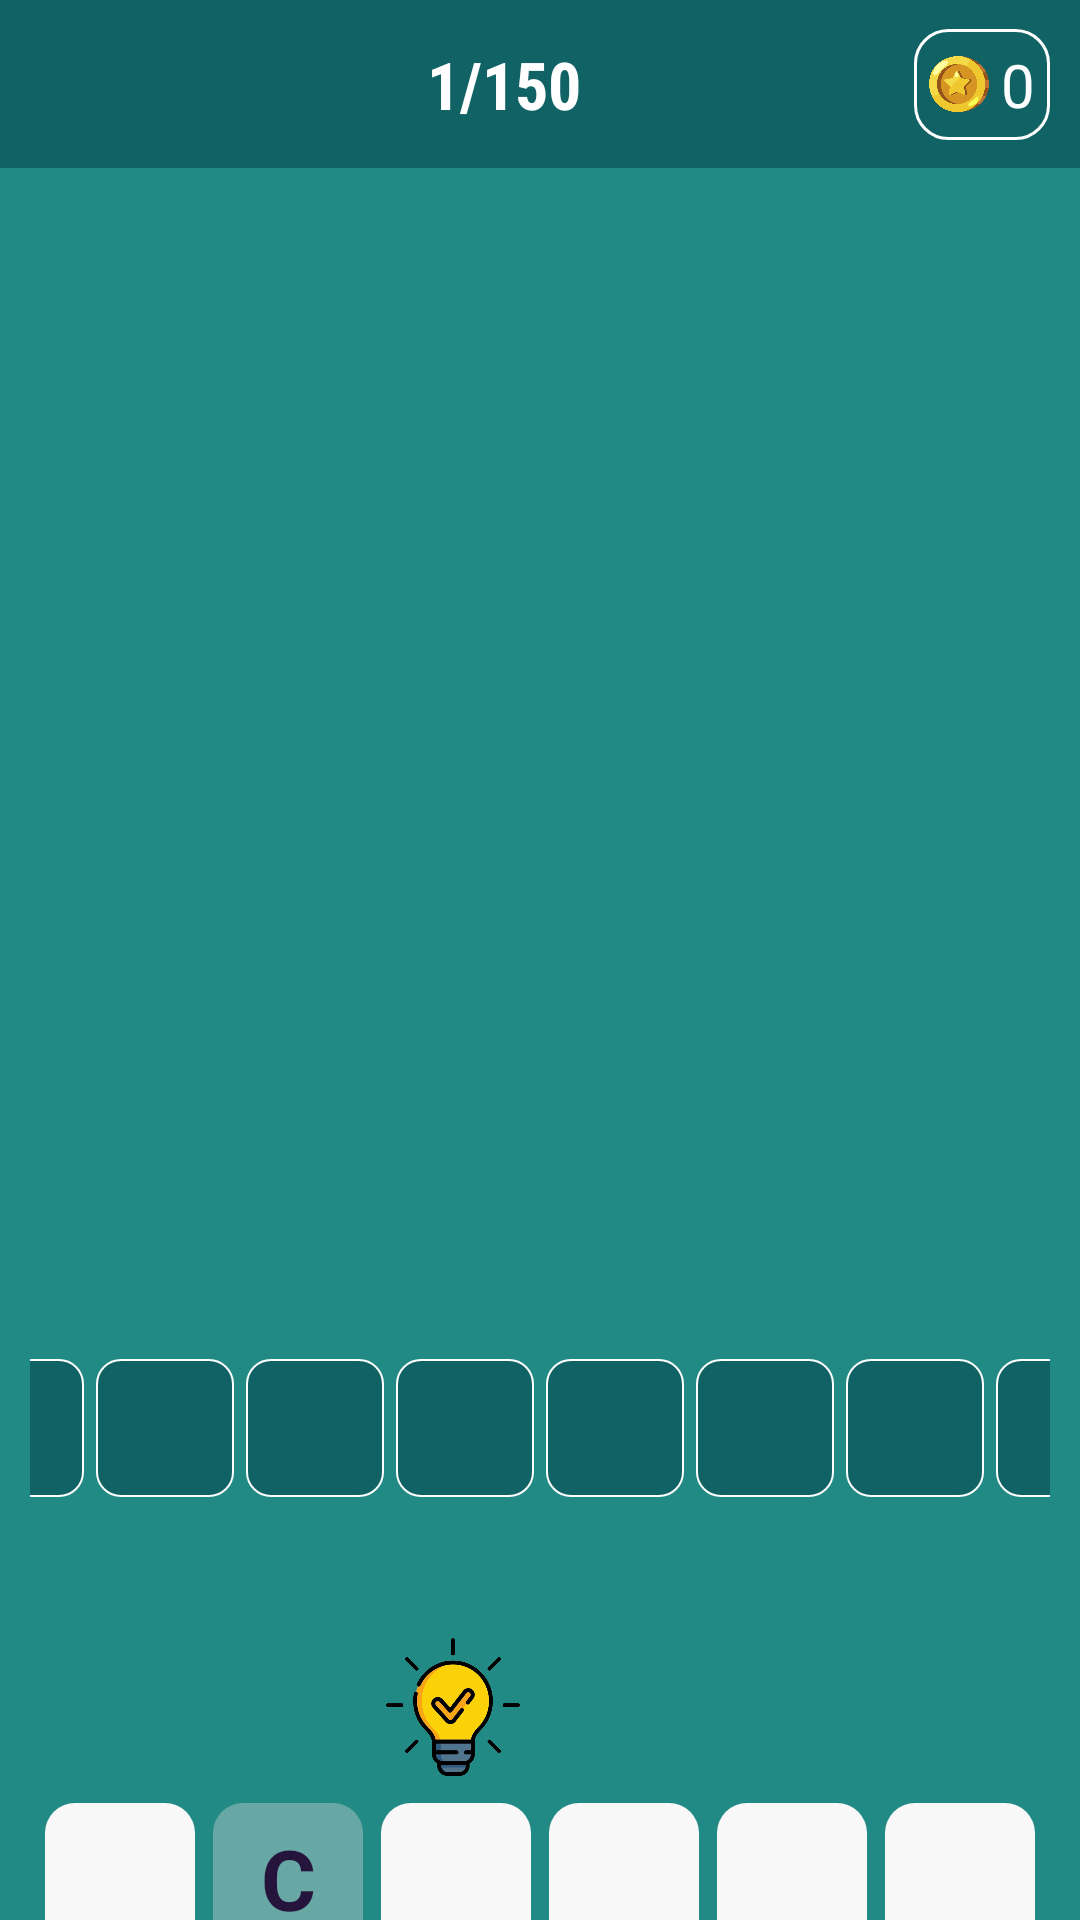

Point at icon controls on the screen. Image size 1080 x 1920, points as (x,y).
coin: (959,84)
